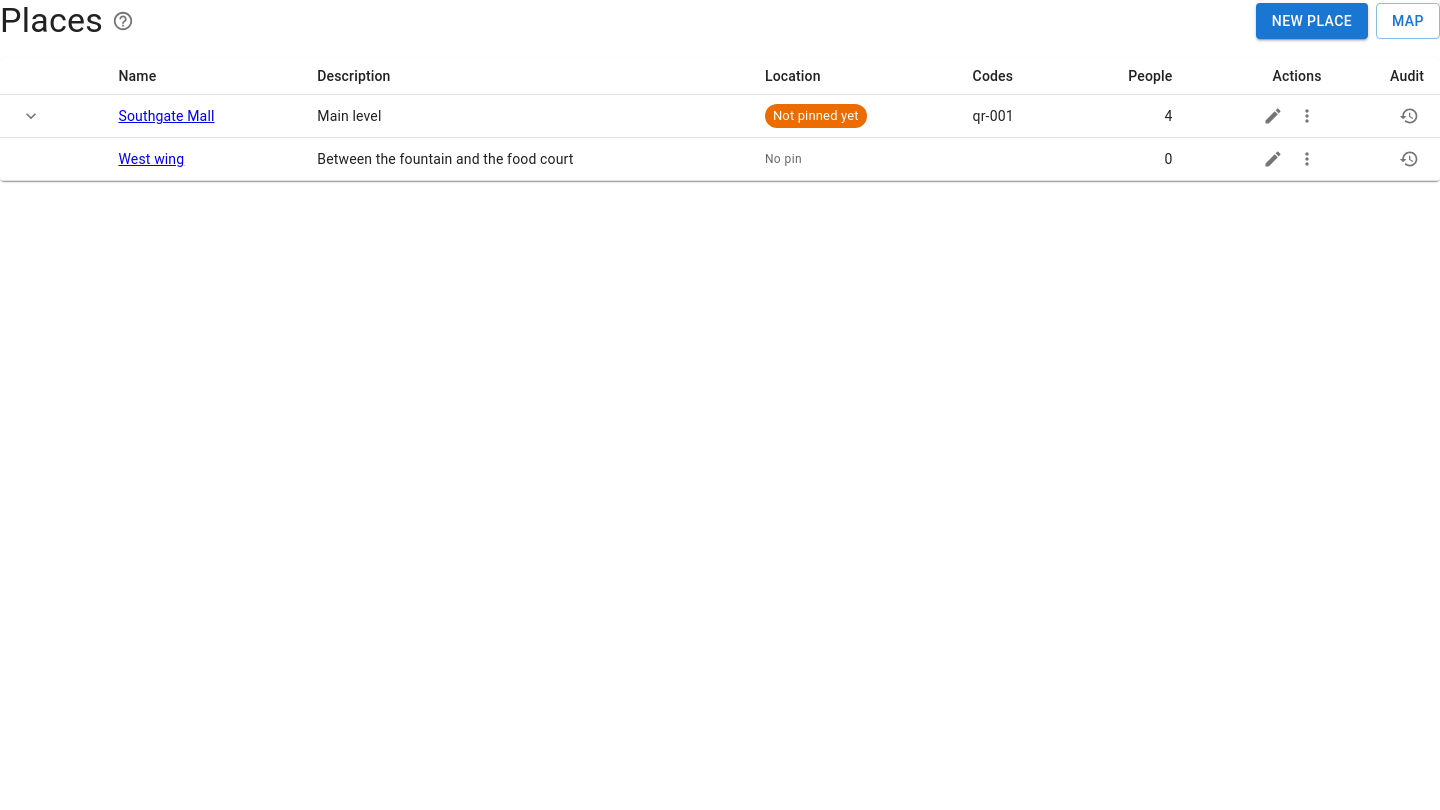
Test: PlacesList delete refusals › shows the API's message when a delete is refused and keeps the row
The width and height of the screenshot is (1440, 810).
Expected: the link "Southgate Mall" is shown, [118,108,214,124]
Click the button named "actions for southgate mall". click: (1306, 116)
box: [1292,101,1322,131]
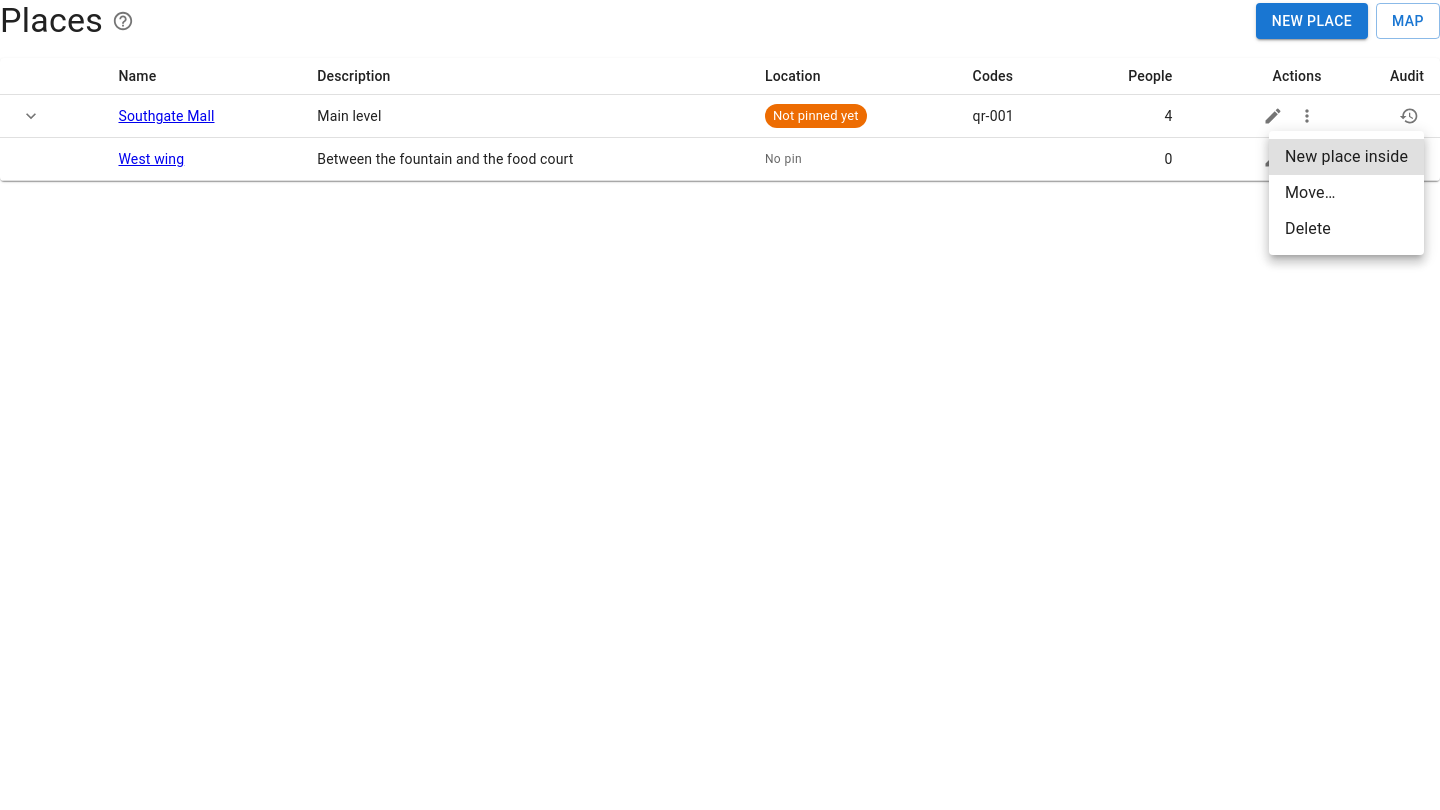
Click the menu item "Delete". click: (1308, 228)
box: [1285,219,1331,238]
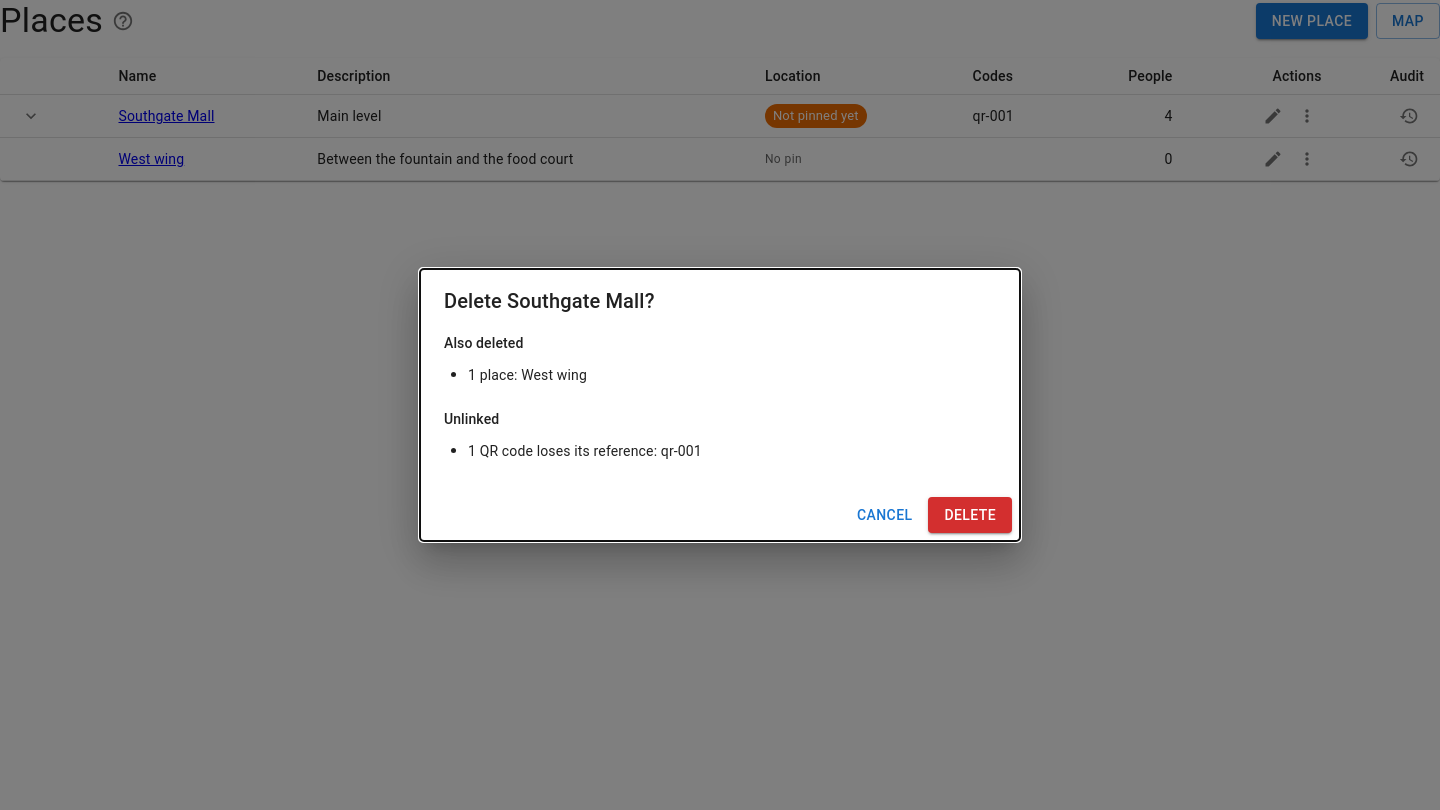
Now the button "Delete" is enabled
Click the button "Delete". click: (970, 515)
box: [928,497,1012,533]
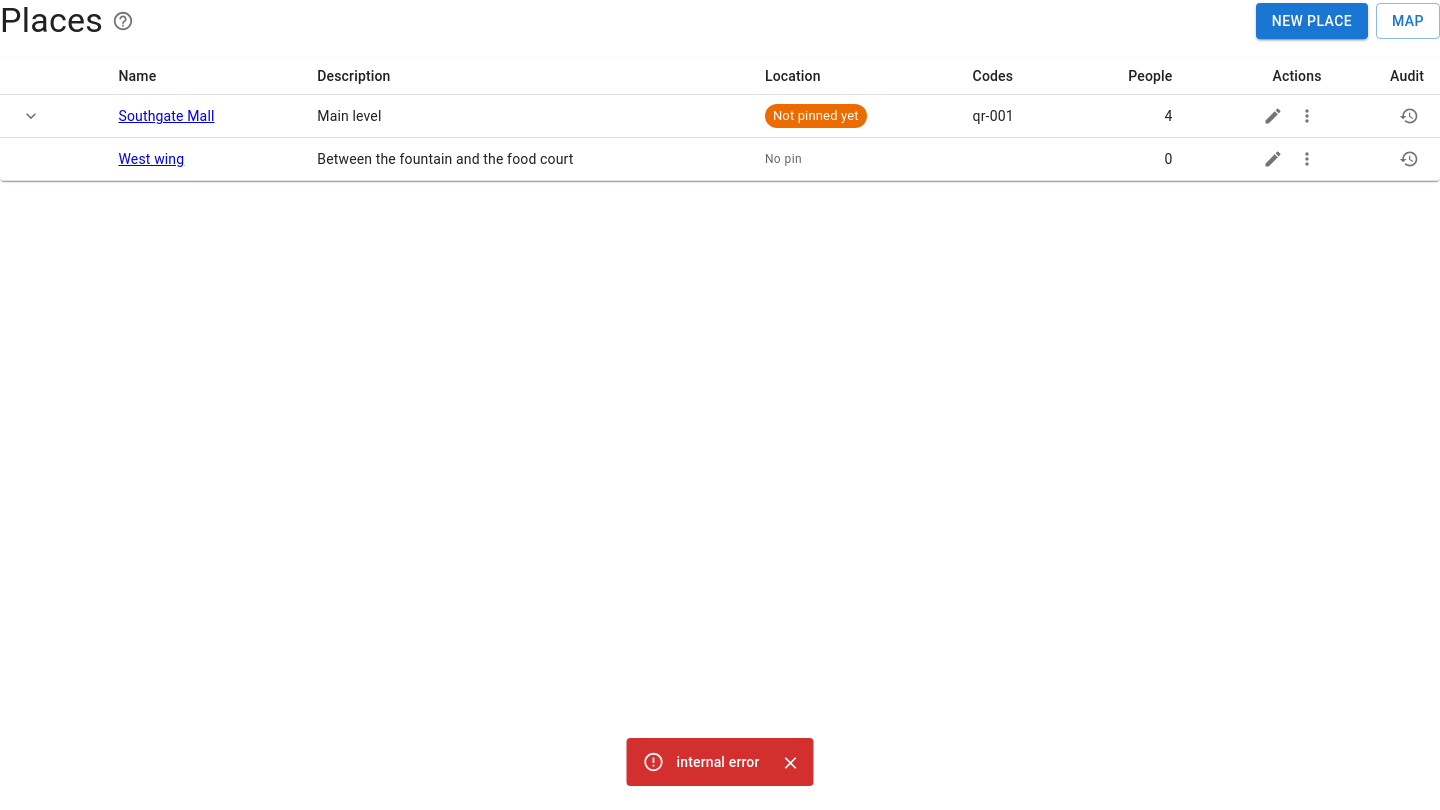
Expected: the link "Southgate Mall" is shown, [118,108,214,124]
Now the text "internal error" is shown, box [676,754,760,770]
